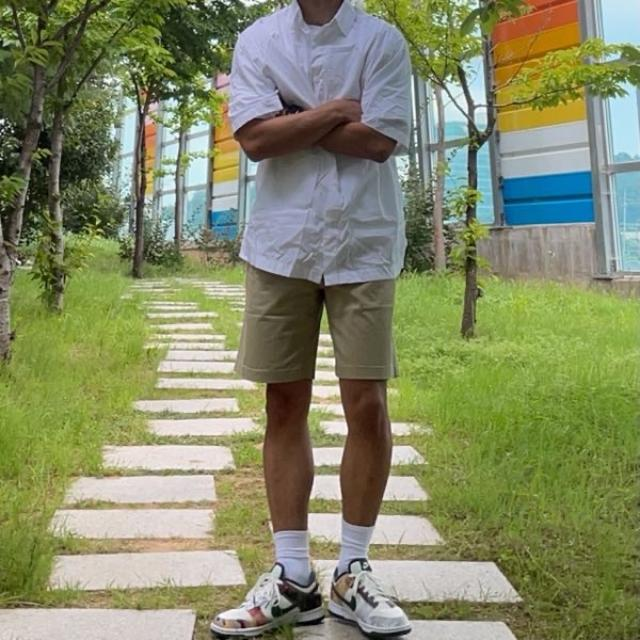shirt: (228, 0, 411, 283)
shortpants: (231, 260, 400, 385)
